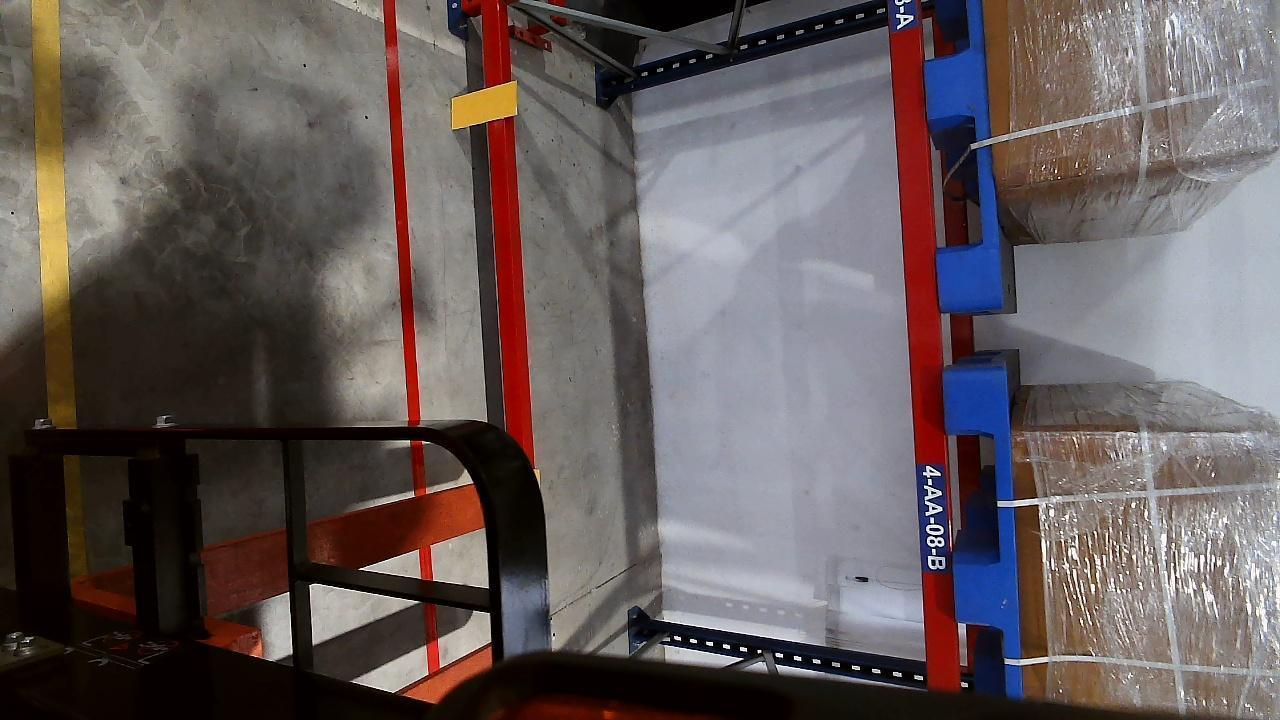red_line: (379, 0, 437, 580)
yellow_line: (30, 0, 74, 425)
